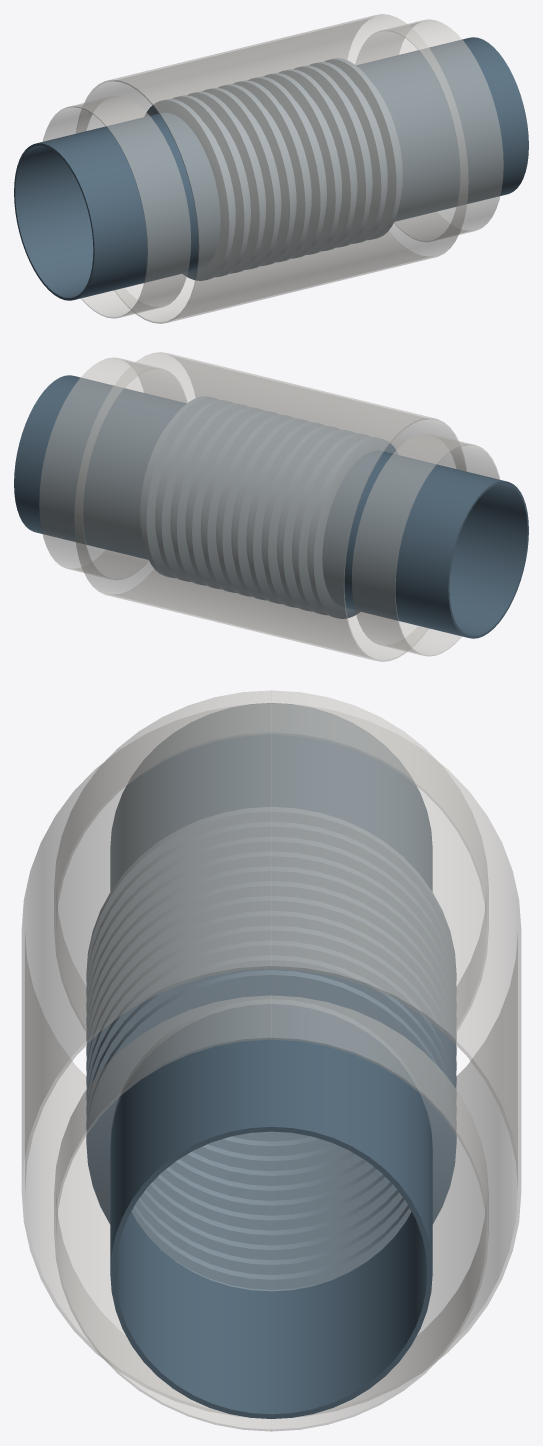
The model's file is ppu-dn400-L1325-D426-k-o660.glb.
The picture shows the model from 3 angles, top to bottom: view 1: azimuth 30°, elevation 25°; view 2: azimuth 150°, elevation 25°; view 3: azimuth 270°, elevation 25°; orthographic projection. The views are drawn at different scales.
Visible parts, largest first — view 1: uslovno_kozhuh_ppu, prokladka_silfon_1, patrubok_1, patrubok_2, uslovno_obolochka_l, uslovno_obolochka_r; view 2: uslovno_kozhuh_ppu, prokladka_silfon_1, patrubok_1, patrubok_2, uslovno_obolochka_l, uslovno_obolochka_r; view 3: uslovno_kozhuh_ppu, prokladka_silfon_1, patrubok_2, uslovno_obolochka_r, patrubok_1, uslovno_obolochka_l.
Boxes of the visible parts, left/top/right/bottom form: uslovno_kozhuh_ppu: left=76, top=14, right=468, bottom=323; prokladka_silfon_1: left=144, top=58, right=402, bottom=280; patrubok_1: left=14, top=112, right=220, bottom=300; patrubok_2: left=356, top=37, right=528, bottom=221; uslovno_obolochka_l: left=42, top=95, right=191, bottom=318; uslovno_obolochka_r: left=355, top=19, right=503, bottom=241; uslovno_kozhuh_ppu: left=74, top=352, right=466, bottom=661; prokladka_silfon_1: left=140, top=396, right=398, bottom=618; patrubok_1: left=322, top=450, right=528, bottom=638; patrubok_2: left=14, top=375, right=186, bottom=559; uslovno_obolochka_l: left=351, top=433, right=500, bottom=656; uslovno_obolochka_r: left=39, top=357, right=187, bottom=579; uslovno_kozhuh_ppu: left=21, top=703, right=521, bottom=1416; prokladka_silfon_1: left=86, top=807, right=456, bottom=1291; patrubok_2: left=110, top=1004, right=432, bottom=1418; uslovno_obolochka_r: left=54, top=995, right=488, bottom=1431; patrubok_1: left=110, top=703, right=432, bottom=891; uslovno_obolochka_l: left=54, top=690, right=488, bottom=1031.
Bounding box in the file's own units: 1325 × 660 × 660.
